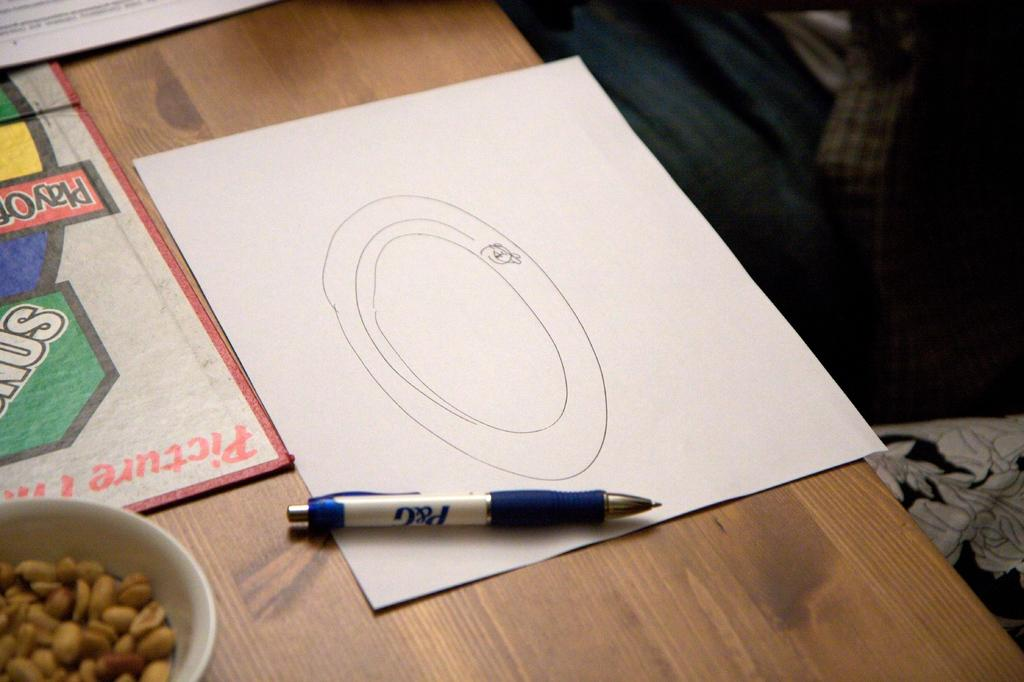pen: (284, 489, 662, 531)
